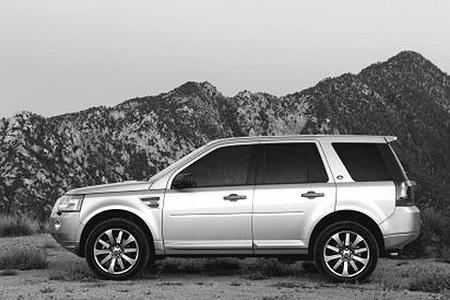car: (52, 135, 422, 284)
